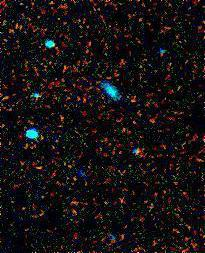star: (99, 224, 129, 253)
